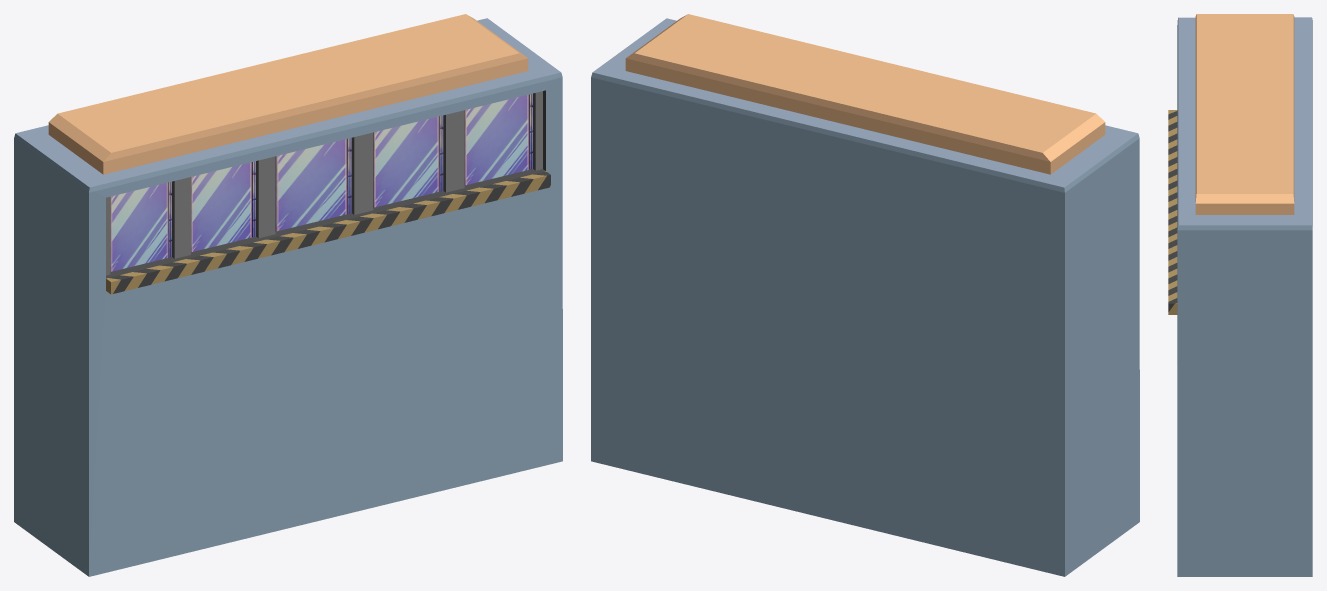
Rendered from 0_1_Building_2.fbx.
3 views of the same model, side by side, from view 1: azimuth 30°, elevation 25°; view 2: azimuth 150°, elevation 25°; view 3: azimuth 270°, elevation 25° (orthographic). The views are drawn at different scales.
Visible parts, largest first — view 1: 0_1_Building_2; view 2: 0_1_Building_2; view 3: 0_1_Building_2.
Boxes of the visible parts, <box> form: 0_1_Building_2: <box>14,14,562,576</box>; 0_1_Building_2: <box>591,14,1139,576</box>; 0_1_Building_2: <box>1168,14,1312,576</box>.
Size of the model in its own units: 2250 by 1853 by 658.
